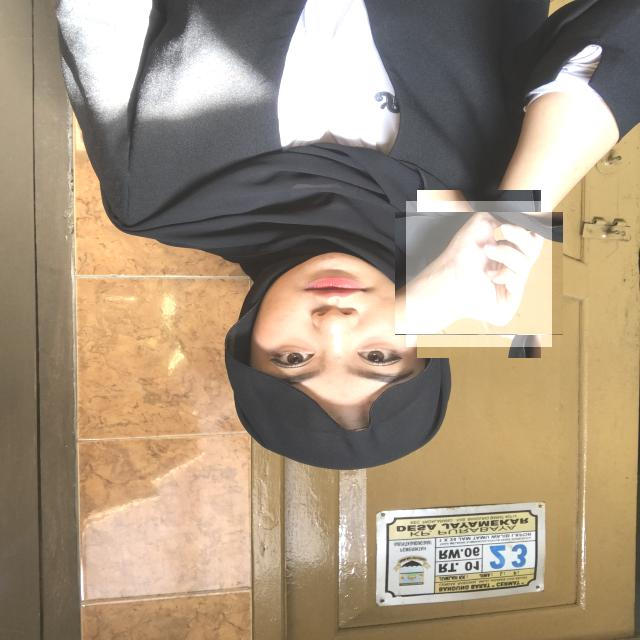ibu: (406, 201, 552, 347)
